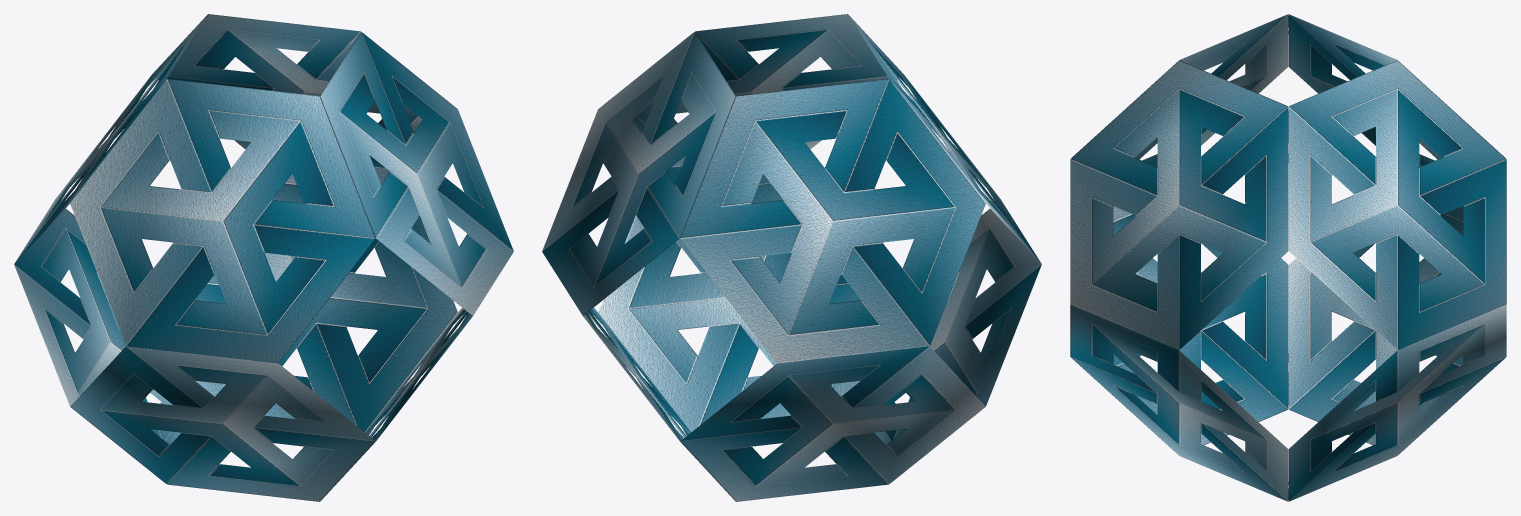
Rendered from TruncatedOctahedron43.gltf.
3 renders of one model, left to right at view 1: azimuth 30°, elevation 25°; view 2: azimuth 150°, elevation 25°; view 3: azimuth 270°, elevation 25°, orthographic. The views are drawn at different scales.
Visible parts, largest first — view 1: 0TruncatedOctahedron; view 2: 0TruncatedOctahedron; view 3: 0TruncatedOctahedron.
Boxes of the visible parts, left/top/right/bottom form: 0TruncatedOctahedron: left=14, top=14, right=513, bottom=501; 0TruncatedOctahedron: left=542, top=14, right=1041, bottom=501; 0TruncatedOctahedron: left=1070, top=14, right=1506, bottom=501.
Bounding box in the file's own units: 2.83 × 2.83 × 2.83.
1 material, 1 textured.
